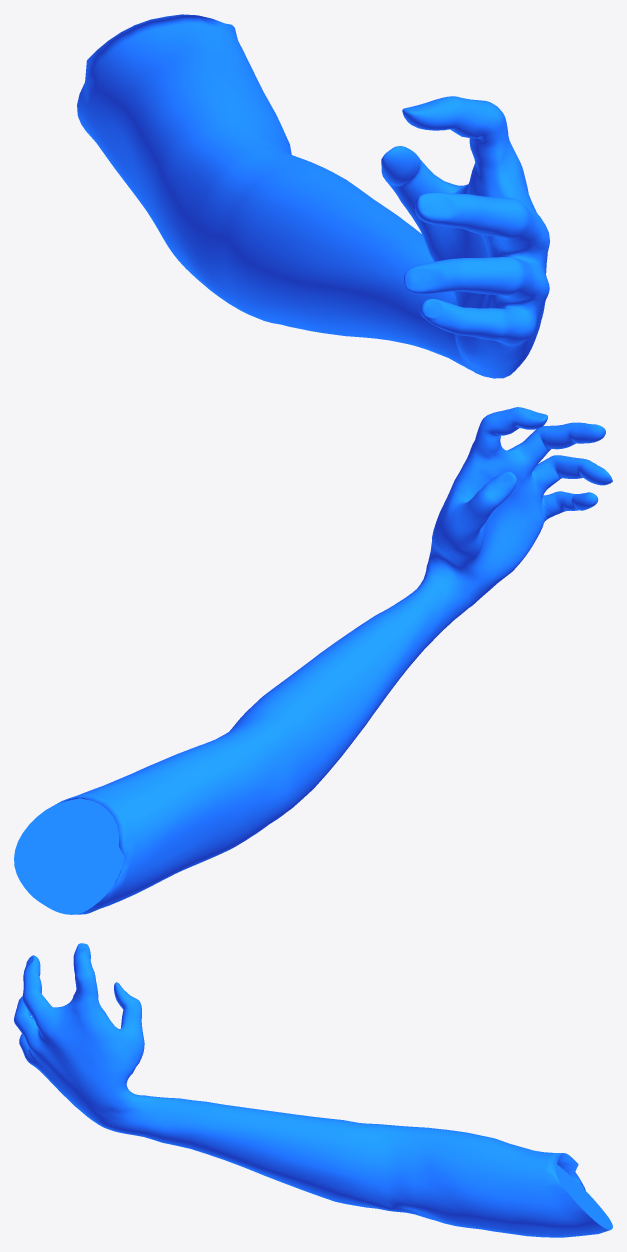
Rendered from CameraArm.fbx.
3 views of the same model, one above another, from view 1: azimuth 30°, elevation 25°; view 2: azimuth 150°, elevation 25°; view 3: azimuth 270°, elevation 25° (orthographic). The views are drawn at different scales.
Parts seen in each view (by area): view 1: female_generic.objMesh; view 2: female_generic.objMesh; view 3: female_generic.objMesh.
Part boxes in pixels (x1=…): female_generic.objMesh: x1=77, y1=14, x2=549, y2=378; female_generic.objMesh: x1=14, y1=407, x2=612, y2=914; female_generic.objMesh: x1=14, y1=943, x2=612, y2=1237.
Size of the model in its own units: 20.9 by 24.92 by 56.99.
